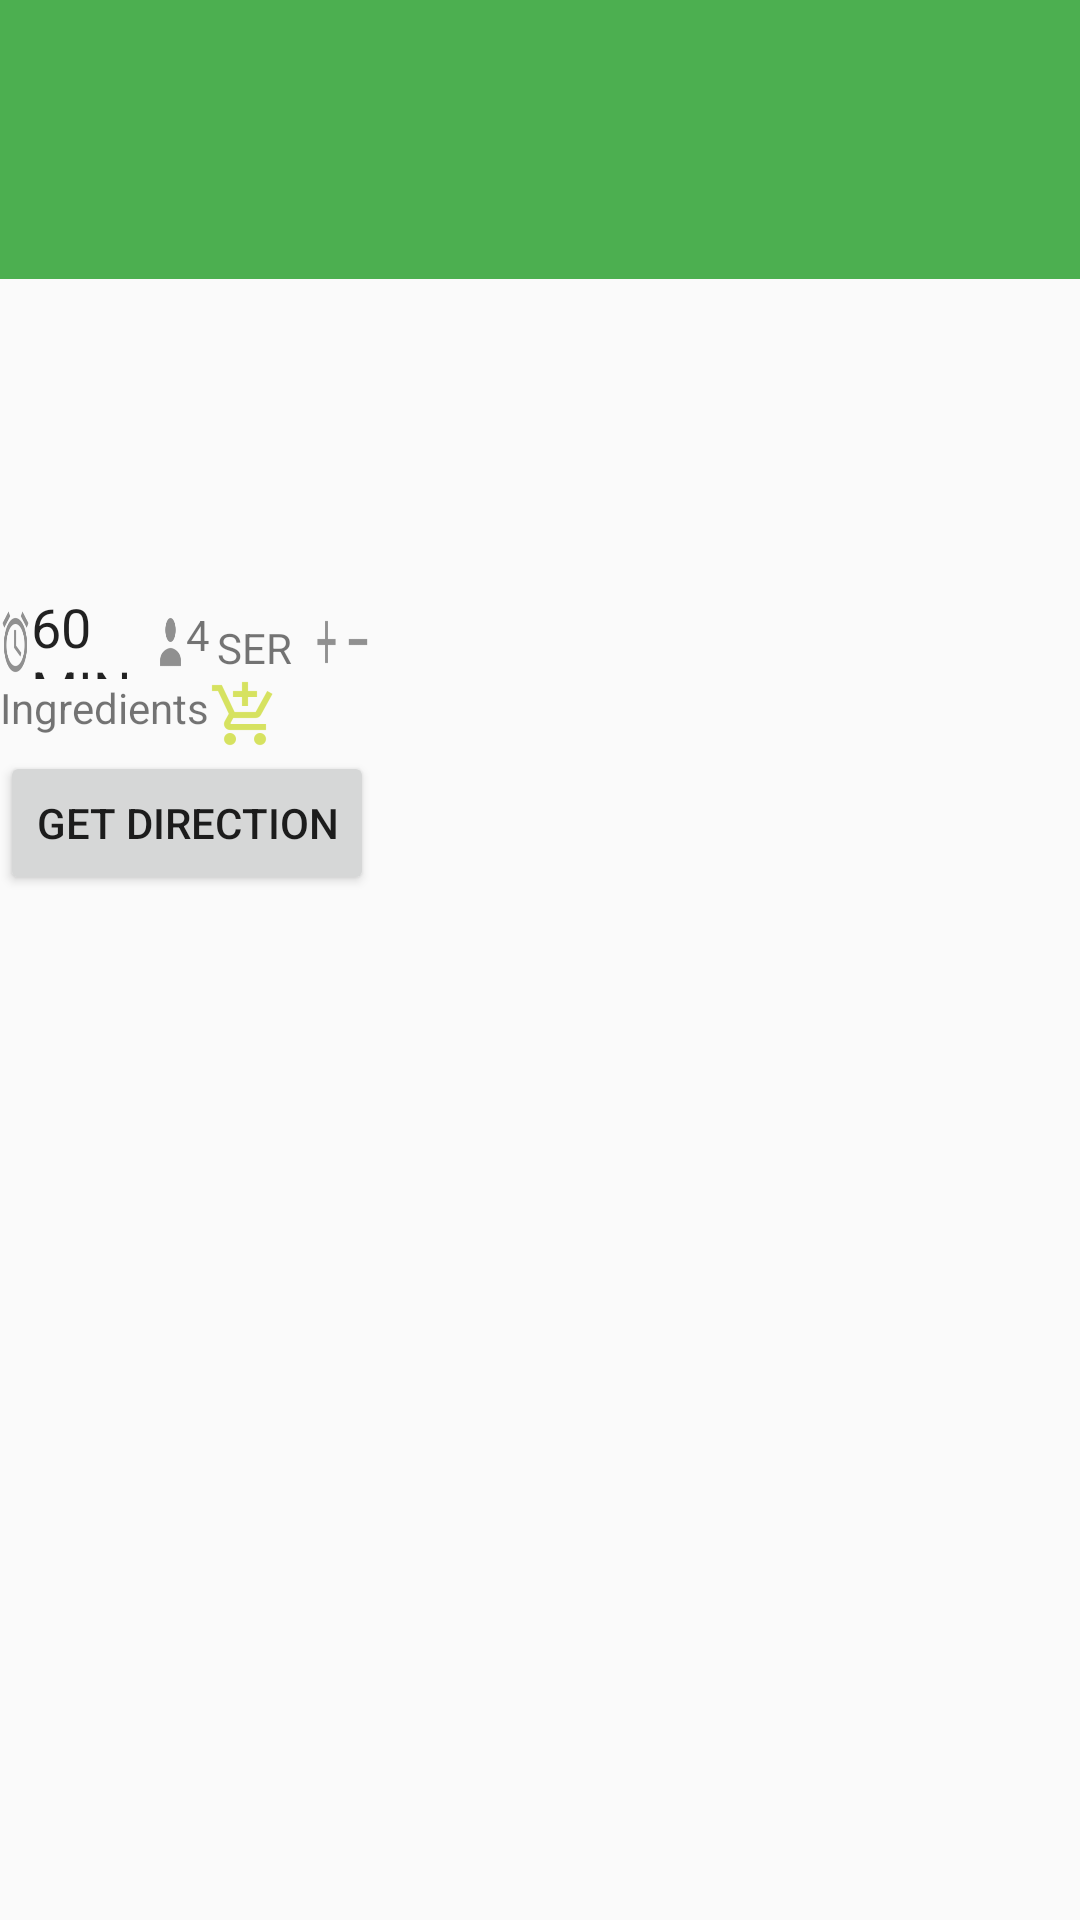

Icons on this 1080x1920 Android screen, each with its box as (x1=x1, y1=y1, x2=x2, y2=y2):
add: (x1=317, y1=621, x2=336, y2=663)
cart: (x1=212, y1=682, x2=273, y2=745)
clock: (x1=3, y1=612, x2=28, y2=672)
person: (x1=160, y1=618, x2=181, y2=666)
